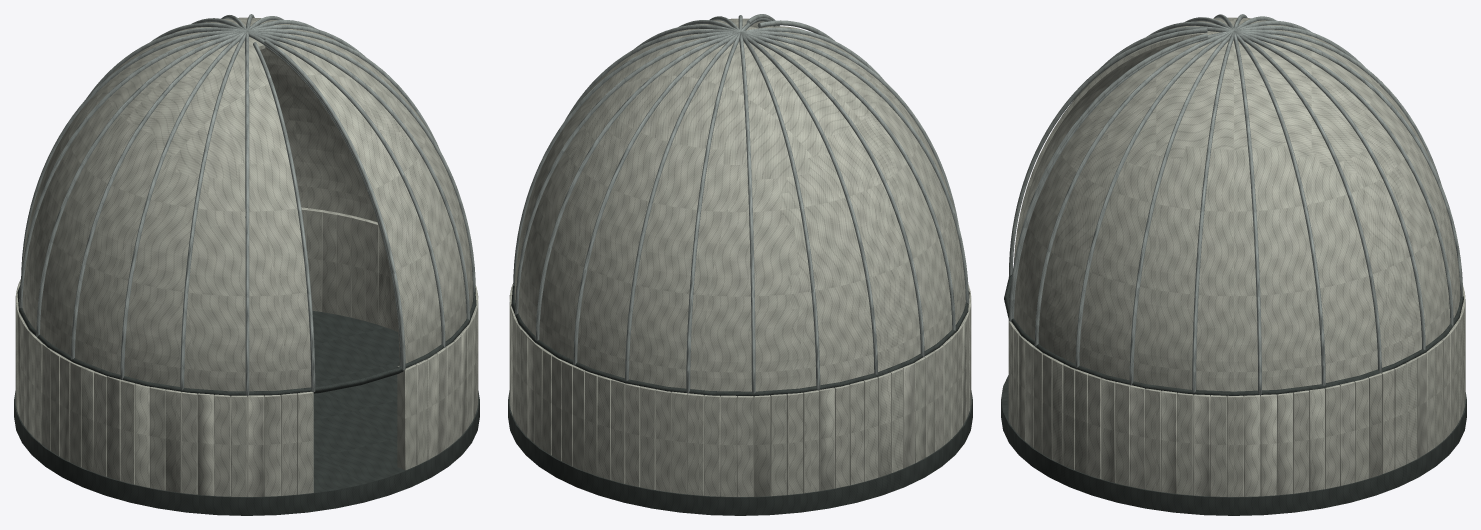
The model's file is observatory.glb.
The picture shows the model from 3 angles, left to right: view 1: azimuth 30°, elevation 25°; view 2: azimuth 150°, elevation 25°; view 3: azimuth 270°, elevation 25°; orthographic projection.
Parts seen in each view (by area): view 1: observatory-cover, observatory-cover.001, observatory-ribs, observatory-base, observatory-base.001; view 2: observatory-cover, observatory-ribs, observatory-base, observatory-base.001, observatory-cover.001; view 3: observatory-cover, observatory-cover.001, observatory-ribs, observatory-base, observatory-base.001.
Boxes of the visible parts, left/top/right/bottom form: observatory-cover: left=15, top=17, right=478, bottom=496; observatory-cover.001: left=124, top=33, right=473, bottom=391; observatory-ribs: left=19, top=14, right=475, bottom=395; observatory-base: left=14, top=311, right=479, bottom=515; observatory-base.001: left=17, top=285, right=476, bottom=396; observatory-cover: left=509, top=26, right=971, bottom=496; observatory-ribs: left=513, top=14, right=968, bottom=393; observatory-base: left=508, top=390, right=972, bottom=515; observatory-base.001: left=511, top=286, right=969, bottom=396; observatory-cover.001: left=694, top=18, right=955, bottom=212; observatory-cover: left=1008, top=17, right=1465, bottom=496; observatory-cover.001: left=1014, top=21, right=1228, bottom=389; observatory-ribs: left=1009, top=14, right=1463, bottom=394; observatory-base: left=1001, top=375, right=1466, bottom=515; observatory-base.001: left=1004, top=275, right=1463, bottom=395.
Size of the model in its own units: 12 by 11 by 12.
Materials: 3 (3 with a texture image).
